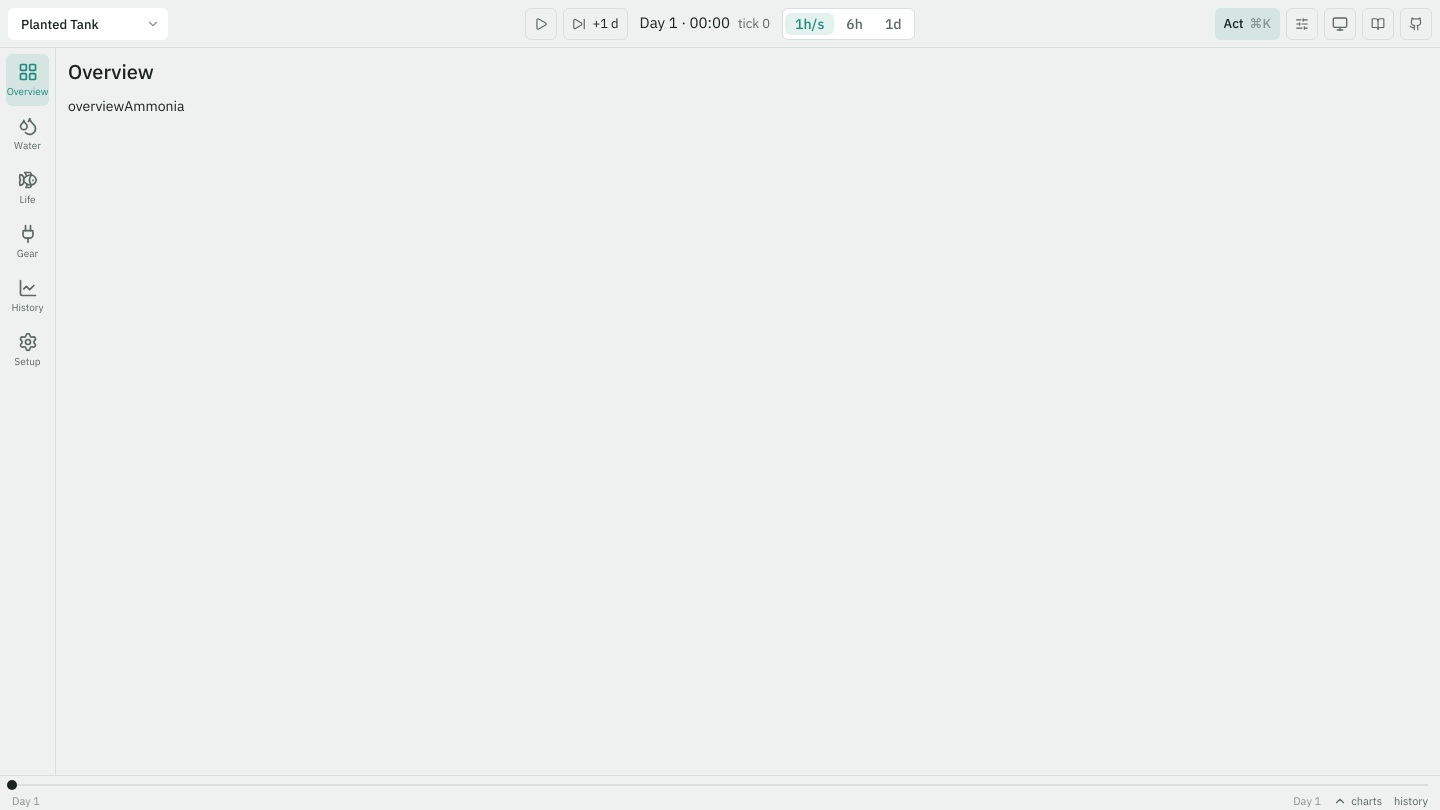
Test: AppShell — the drawer › closes on Escape and on its own close button
Click the button "Act ⌘K" at coordinates (1247, 24), box [1215,8,1280,40]
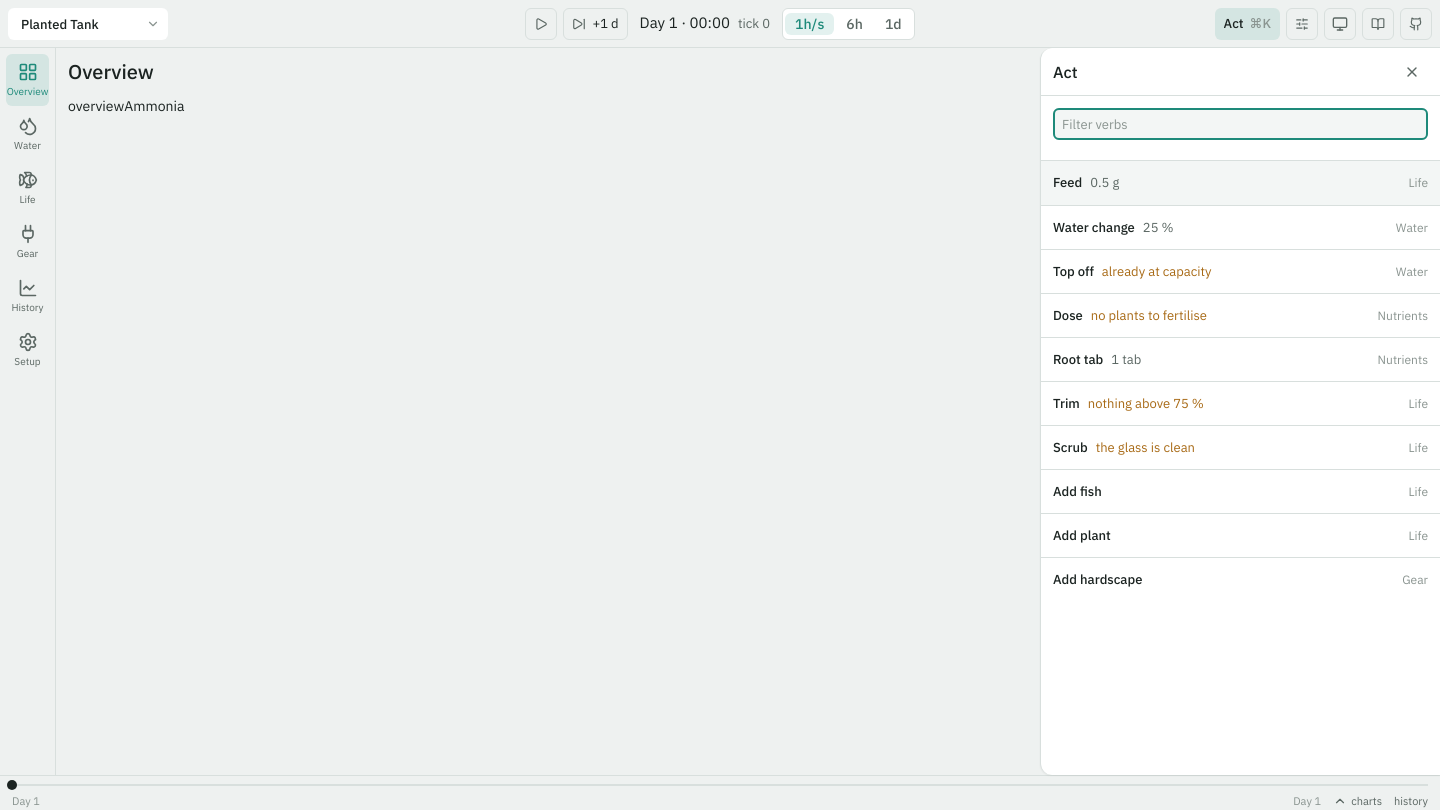
Press Escape
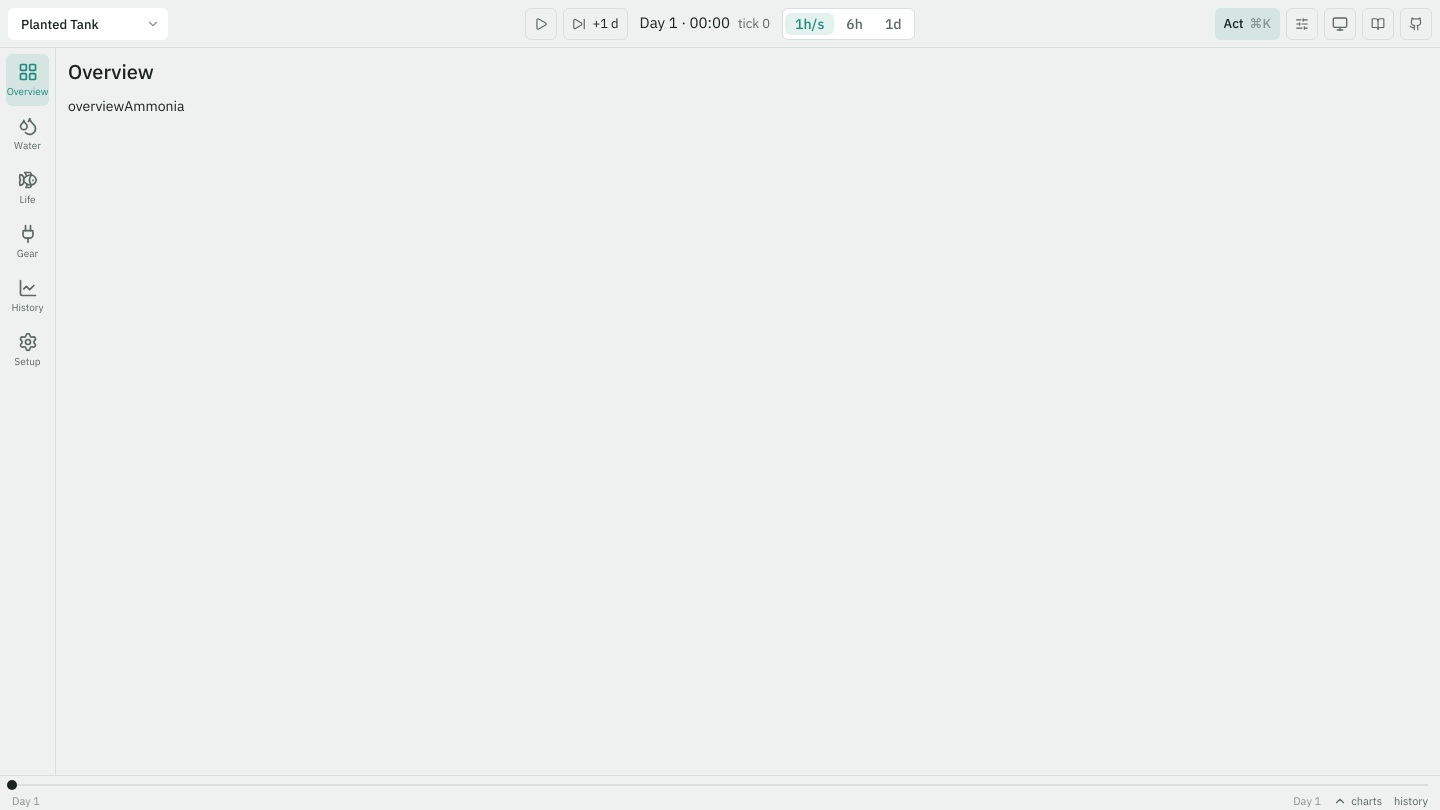
Result: the dialog is gone
Click the button "Act ⌘K" at coordinates (1247, 24), box [1215,8,1280,40]
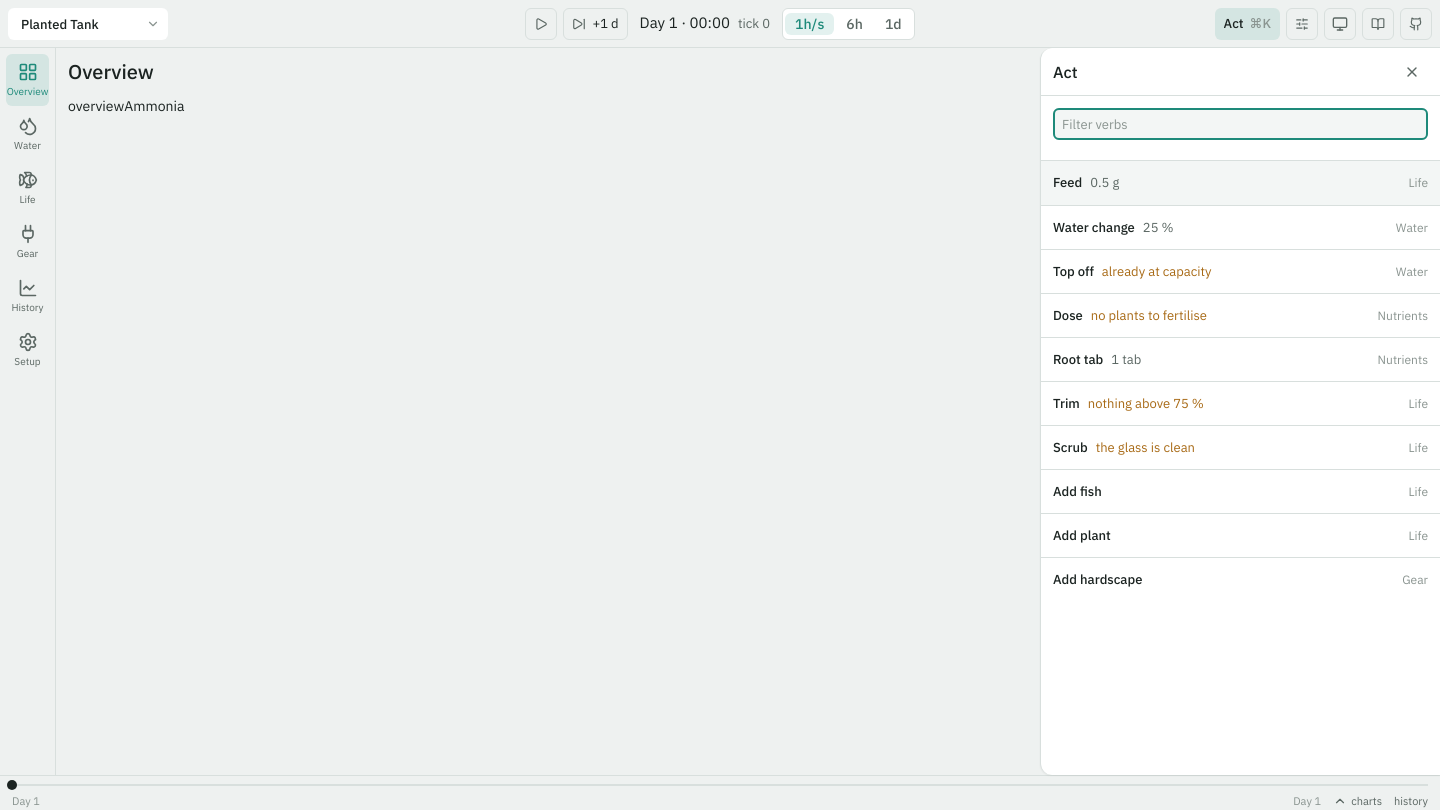
Click the button named "Close Act" at coordinates (1412, 72), box [1396,56,1428,88]
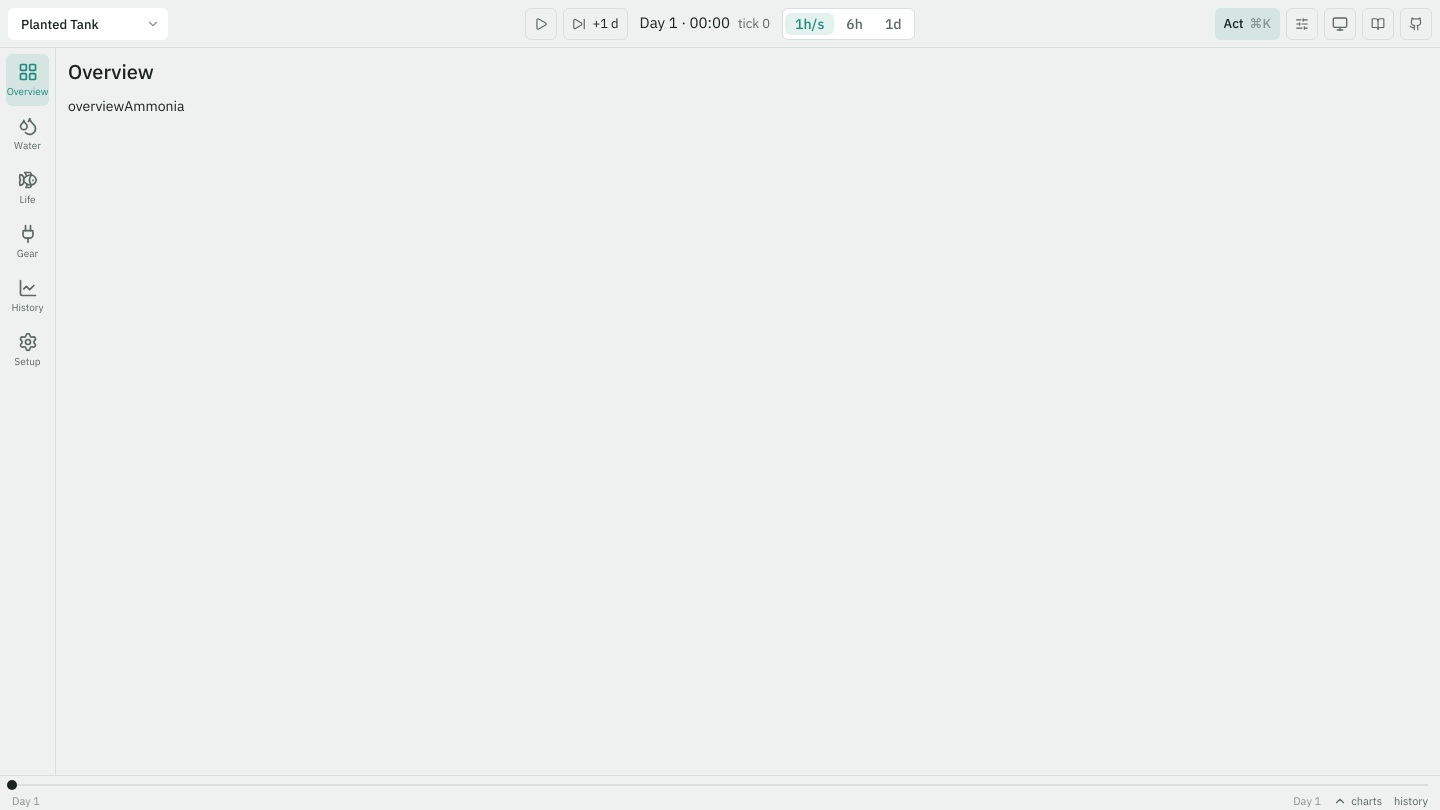
Result: the dialog is gone
